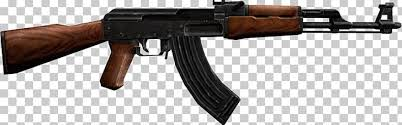gun: (1, 1, 399, 124)
